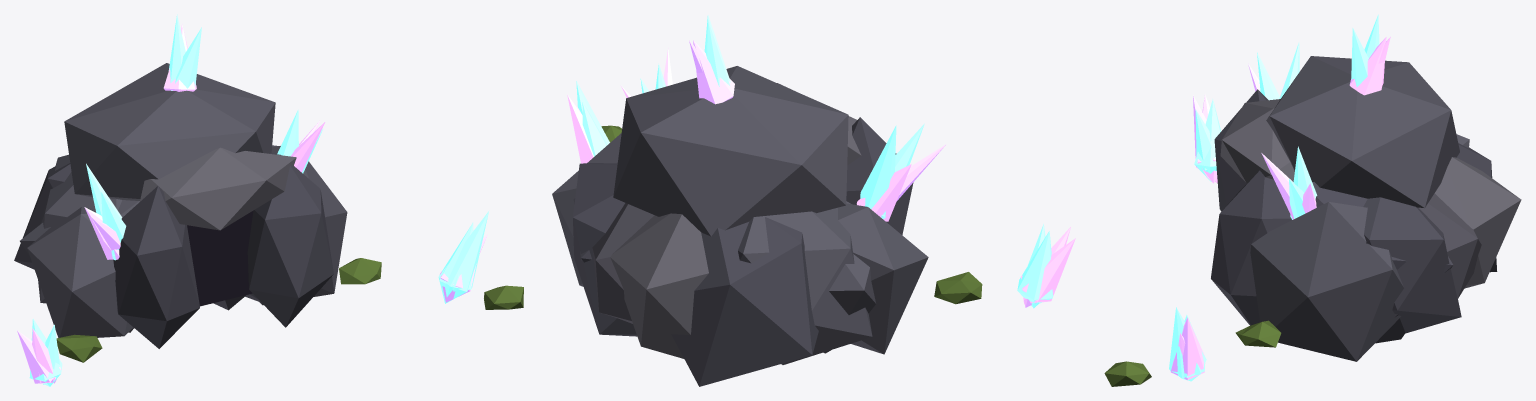
File: theme_crystal.glb
3 renders of one model, left to right at view 1: azimuth 30°, elevation 25°; view 2: azimuth 150°, elevation 25°; view 3: azimuth 270°, elevation 25°, orthographic. The views are drawn at different scales.
Parts seen in each view (by area): view 1: theme_crystal; view 2: theme_crystal; view 3: theme_crystal.
Boxes of the visible parts, bbox=[...] form: theme_crystal: bbox=[14, 14, 523, 386]; theme_crystal: bbox=[552, 15, 1075, 386]; theme_crystal: bbox=[1104, 14, 1521, 386].
Bounding box in the file's own units: 2.36 × 1.44 × 1.75.
